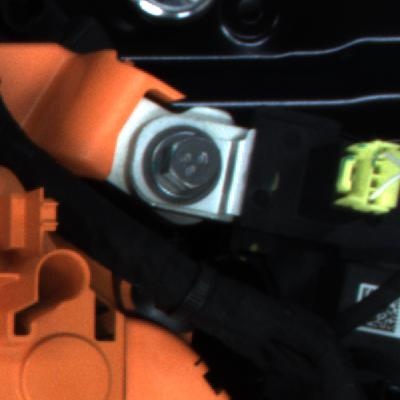nut_b: (140, 125, 221, 210)
